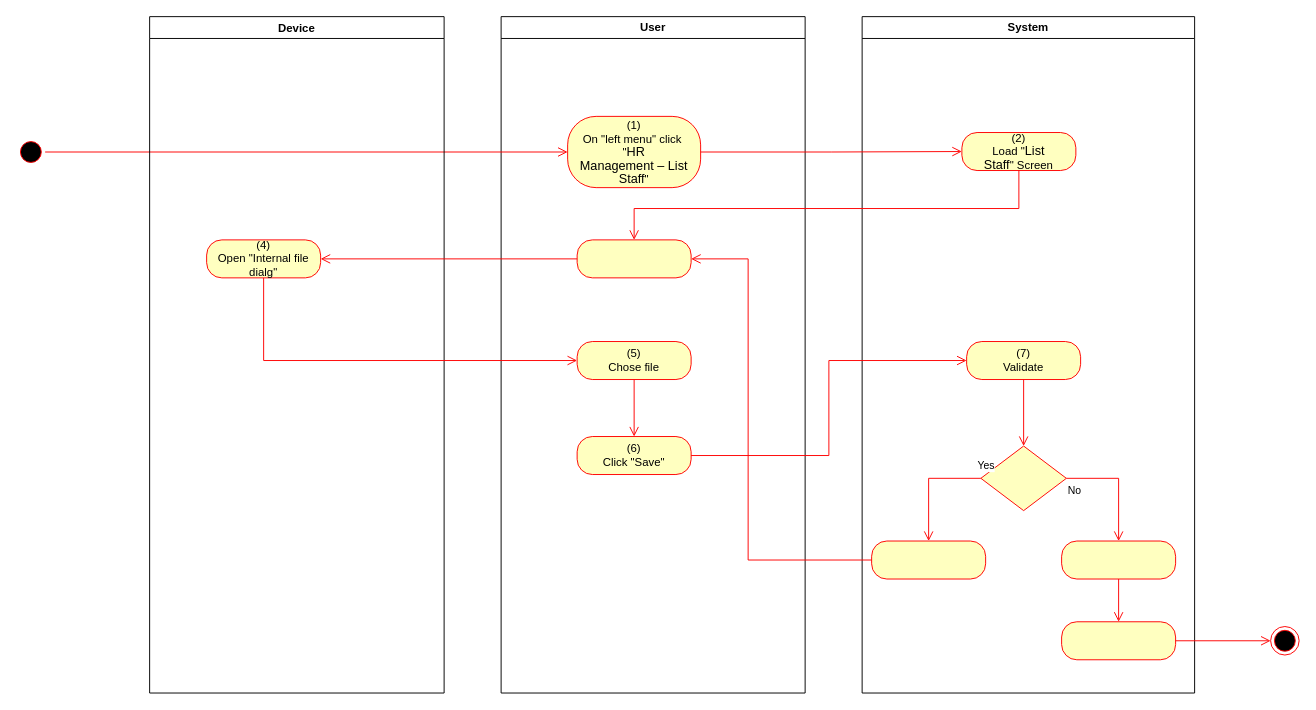
Some shapes in this 1316 by 710 pixel diagram are drawn without their labels. The shapes that lost their labels are listed below. From the top down, each one's centre as x and y in pixels, then its label:
(x=633, y=258): (3) Click "Tính lương"
(x=928, y=559): (7.1) Show MSG
(x=1118, y=559): (7.2) Calculate salary
(x=1118, y=640): (6) Update to DB and "List Staff" screen
